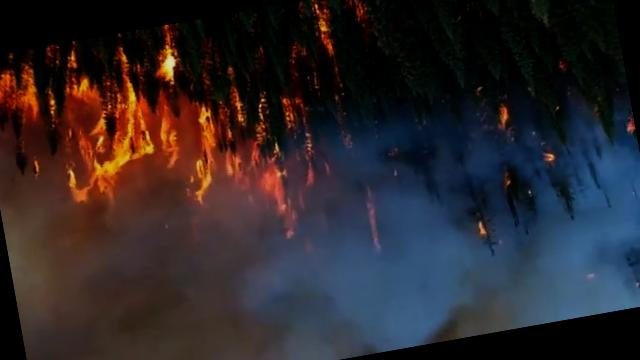fire: (44, 46, 161, 207), (231, 76, 335, 241), (152, 82, 237, 210), (0, 62, 39, 139), (305, 0, 341, 59), (150, 28, 184, 80), (344, 0, 368, 29)
smoke: (0, 83, 640, 360)
